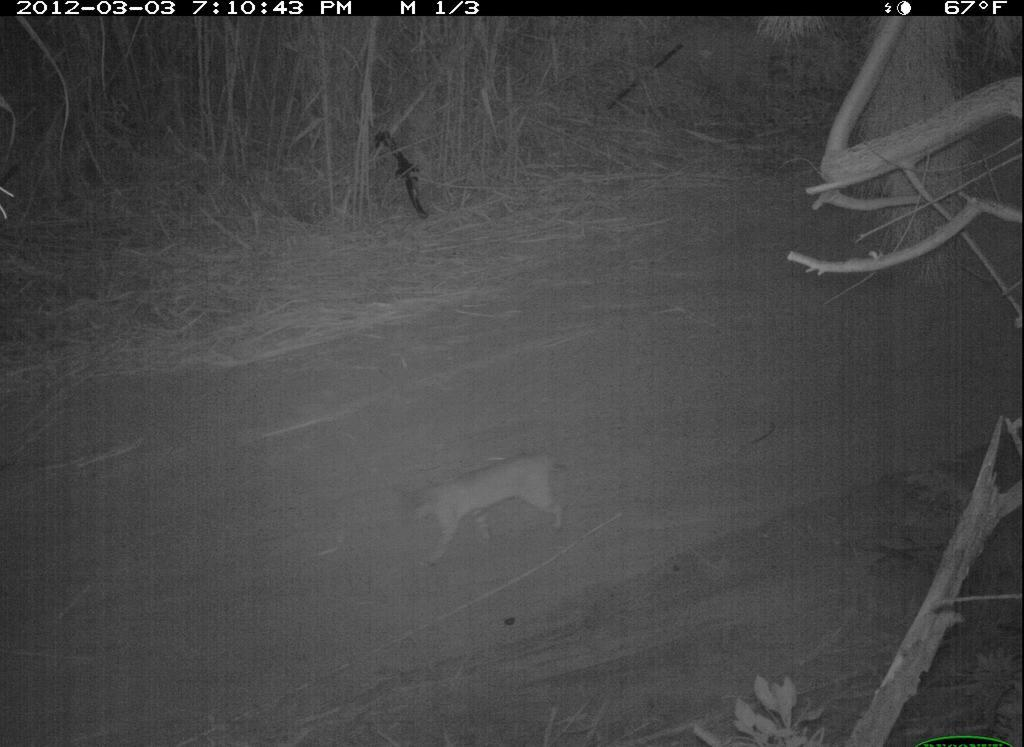bobcat: (408, 456, 568, 552)
